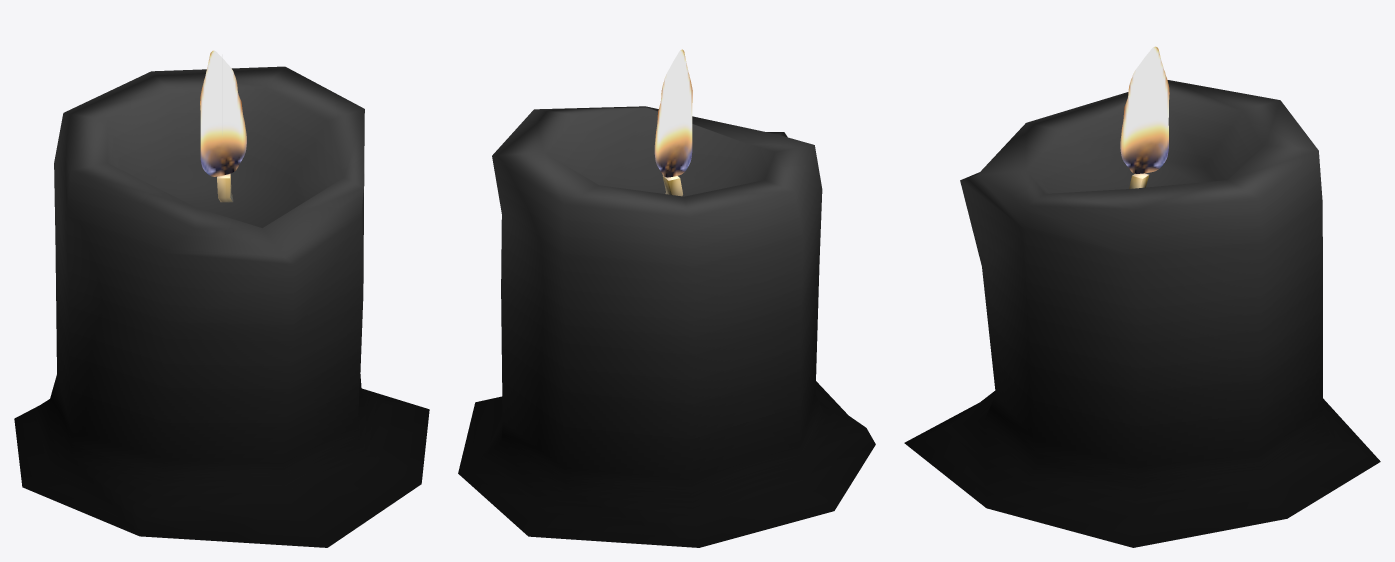
File: CandleShapeC.005.glb
3 renders of one model, left to right at view 1: azimuth 30°, elevation 25°; view 2: azimuth 150°, elevation 25°; view 3: azimuth 270°, elevation 25°, orthographic.
Visible parts, largest first — view 1: CandleShapeC.005; view 2: CandleShapeC.005; view 3: CandleShapeC.005.
Boxes of the visible parts, x1,y1,x2,y2 form: CandleShapeC.005: [14, 50, 429, 547]; CandleShapeC.005: [458, 49, 875, 547]; CandleShapeC.005: [904, 46, 1380, 547].
Bounding box in the file's own units: 0.1734 × 0.1799 × 0.1889.
Materials: 2 (2 with a texture image).
